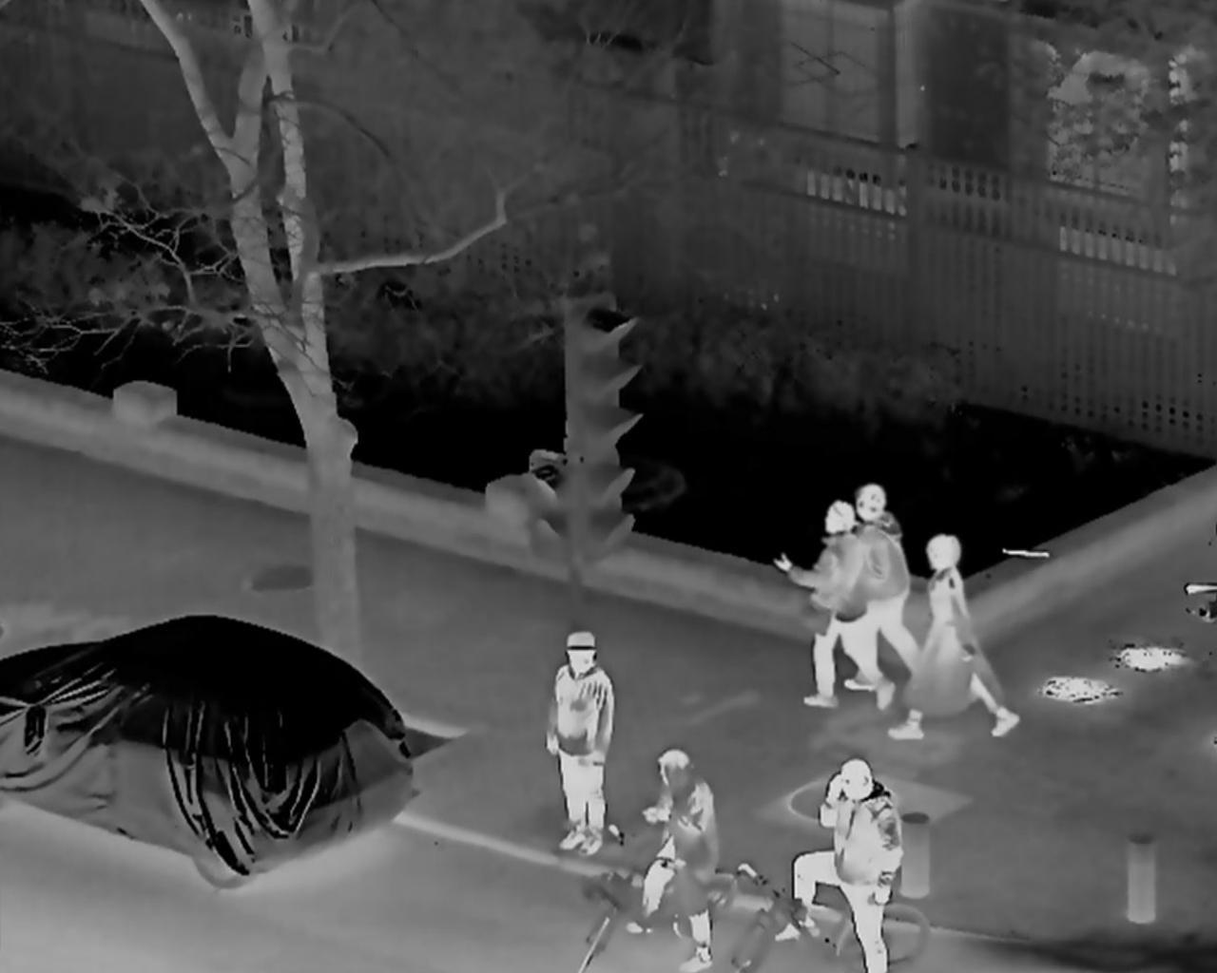person: (773, 753, 901, 973), (884, 535, 1017, 745), (821, 484, 950, 699), (775, 502, 895, 714), (628, 753, 720, 973), (545, 632, 615, 862)
